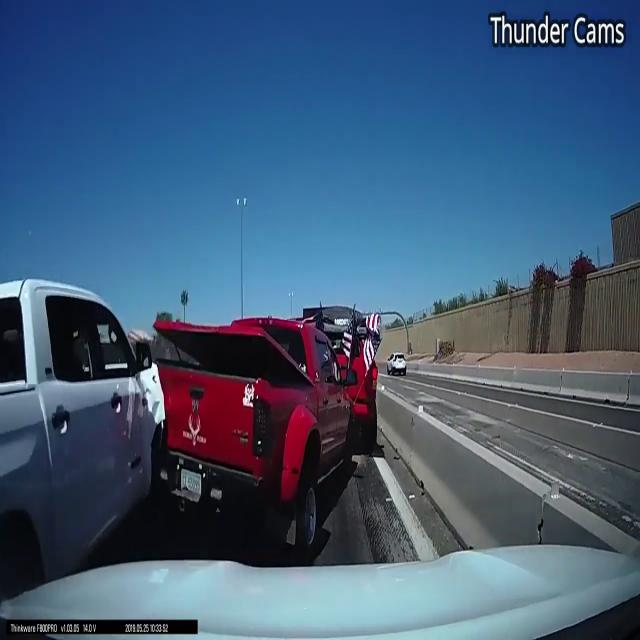accident: (64, 267, 268, 522)
